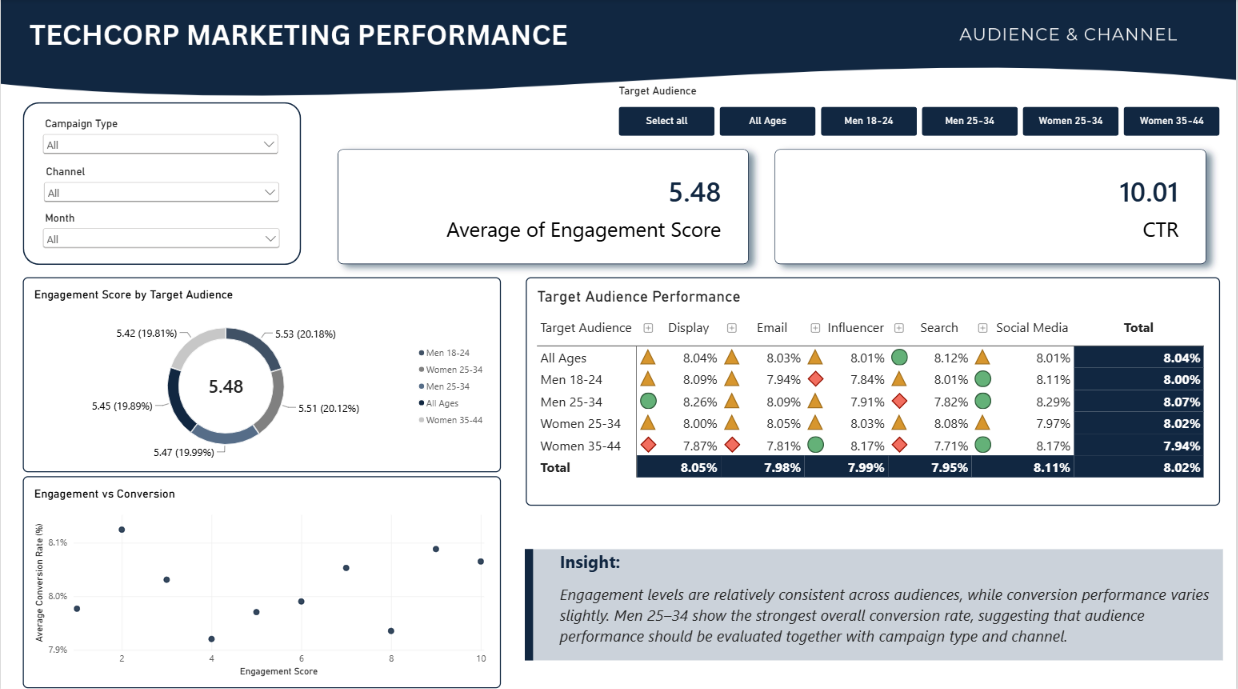

What the dashboard file says about the page in this screenshot:
{"tool":"powerbi","page":{"name":"Audience & Channel Performance","canvas":[1920,1080],"ordinal":1},"visuals":[{"type":"image","box":[0,0,1919.7,1080.3],"z":0},{"type":"group","id":"g1","title":"Group 1","box":[34.9,160.5,432.6,252.9],"z":1000},{"type":"shape","box":[34.9,160.5,432.6,252.9],"z":1500,"group":"g1"},{"type":"cardVisual","fields":{"Data":["Avg(marketing_campaign techcorp_marketing_campaign.Engagement_Score)"]},"box":[504.3,212.5,679,219.7],"z":2000},{"type":"cardVisual","fields":{"Data":["marketing_campaign techcorp_marketing_campaign.CTR"]},"box":[1183.3,212.5,711.4,219.7],"z":3000},{"type":"donutChart","title":"Engagement Score by Target Audience","fields":{"Category":["marketing_campaign techcorp_marketing_campaign.Target_Audience"],"Y":["Avg(marketing_campaign techcorp_marketing_campaign.Engagement_Score)"]},"box":[34.9,432.6,743,303.5],"z":4000},{"type":"slicer","fields":{"Values":["marketing_campaign techcorp_marketing_campaign.Campaign_Type"]},"box":[61.8,183.2,375,60.3],"z":4500,"group":"g1"},{"type":"slicer","fields":{"Values":["marketing_campaign techcorp_marketing_campaign.Channel_Used"]},"box":[63.5,258.2,375,60.3],"z":5000,"group":"g1"},{"type":"scatterChart","title":"Engagement vs Conversion","fields":{"Y":["Avg(marketing_campaign techcorp_marketing_campaign.Conversion_Rate)"],"X":["marketing_campaign techcorp_marketing_campaign.Engagement_Score"]},"box":[34.9,741.3,743,329.7],"z":5000},{"type":"pivotTable","title":"Target Audience Performance","fields":{"Values":["Avg(marketing_campaign techcorp_marketing_campaign.Conversion_Rate)"],"Rows":["marketing_campaign techcorp_marketing_campaign.Target_Audience"],"Columns":["marketing_campaign techcorp_marketing_campaign.Campaign_Type","marketing_campaign techcorp_marketing_campaign.Channel_Used"]},"box":[815.8,432.5,1078.9,354.8],"z":6000},{"type":"slicer","fields":{"Values":["marketing_campaign techcorp_marketing_campaign.Month.Variation.Date Hierarchy.Month"]},"box":[61.2,329.6,377.5,59.4],"z":7000},{"type":"textbox","box":[827,855.1,1072.5,172.7],"z":7000,"group":"g2"},{"type":"advancedSlicerVisual","title":"Target Audience","fields":{"Values":["marketing_campaign techcorp_marketing_campaign.Target_Audience"]},"box":[960,131.5,934.8,81.1],"z":8000},{"type":"group","id":"g2","title":"Group 2","box":[814.3,855.1,1085.1,172.9],"z":9000},{"type":"shape","box":[814.3,855.3,12.7,172.7],"z":9000,"group":"g2"}]}

Visuals, with their boxes in screenshot pixels (x1, y1, x2, y2), scaled from the page's 1920x1080 canvas onto the 1238x689 screenshot:
image: 0, 0, 1237, 688
"Group 1" group: 23, 102, 301, 264
shape: 23, 102, 301, 264
cardVisual - Avg(marketing_campaign techcorp_marketing_campaign.Engagement_Score): 325, 136, 763, 276
cardVisual - marketing_campaign techcorp_marketing_campaign.CTR: 763, 136, 1222, 276
"Engagement Score by Target Audience" donutChart: 23, 276, 502, 470
slicer - marketing_campaign techcorp_marketing_campaign.Campaign_Type: 40, 117, 282, 155
slicer - marketing_campaign techcorp_marketing_campaign.Channel_Used: 41, 165, 283, 203
"Engagement vs Conversion" scatterChart: 23, 473, 502, 683
"Target Audience Performance" pivotTable: 526, 276, 1222, 502
slicer - marketing_campaign techcorp_marketing_campaign.Month.Variation.Date Hierarchy.Month: 39, 210, 283, 248
textbox: 533, 546, 1225, 656
"Target Audience" advancedSlicerVisual: 619, 84, 1222, 136
"Group 2" group: 525, 546, 1225, 656
shape: 525, 546, 533, 656
